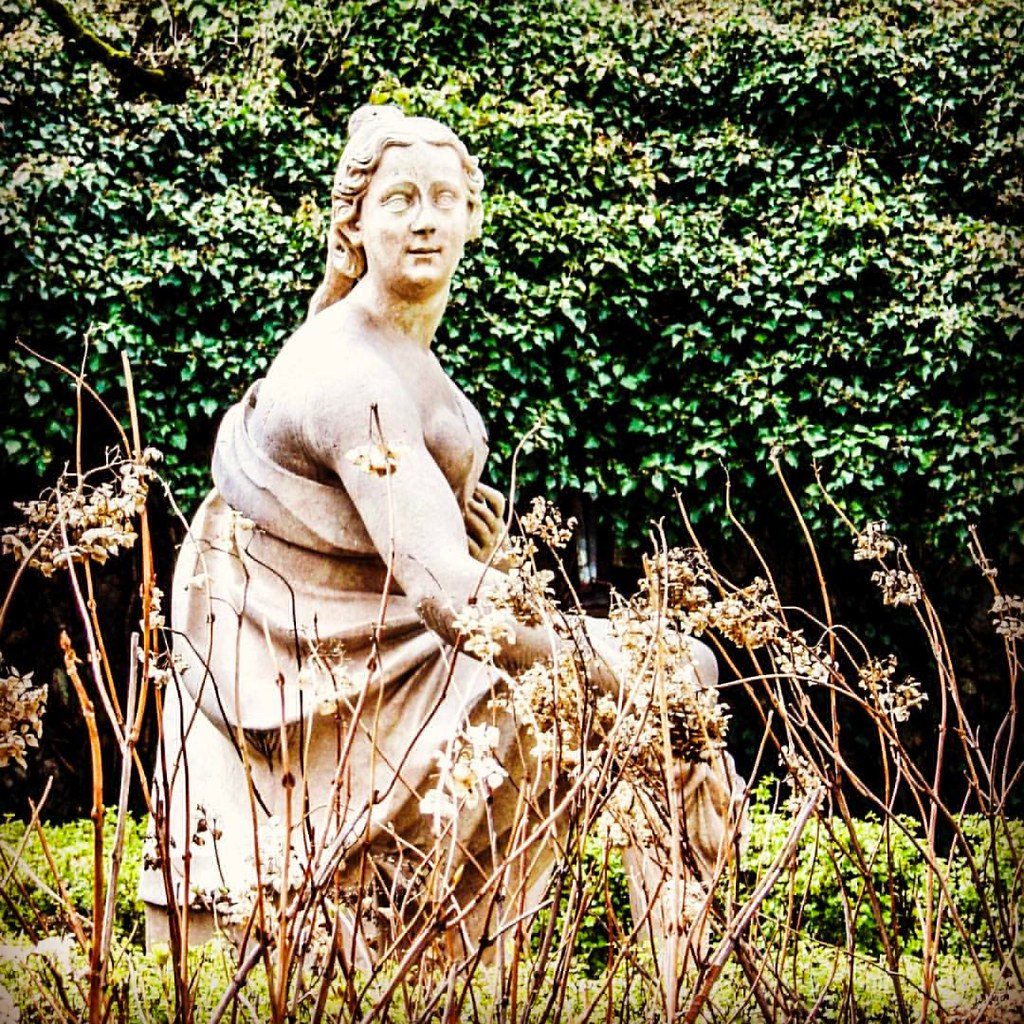person-like: (139, 86, 757, 977)
